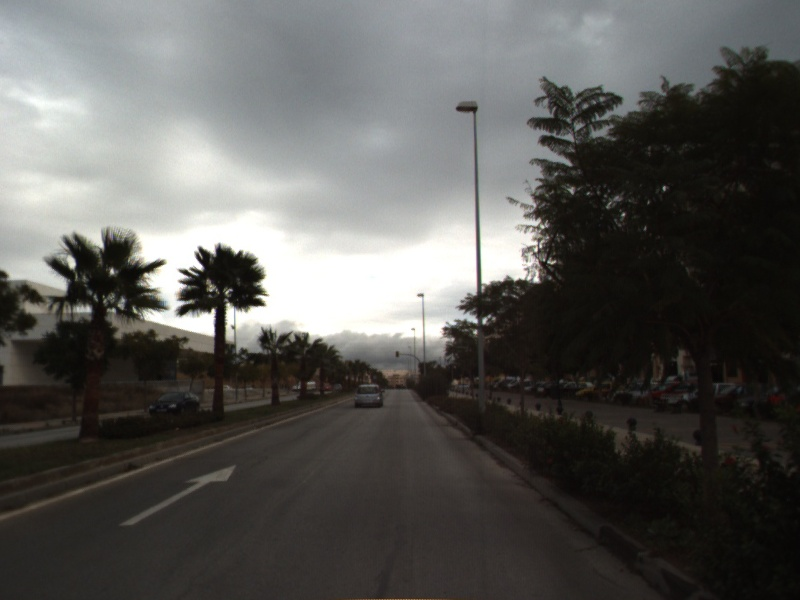STRAIGHT: (118, 462, 238, 527)
